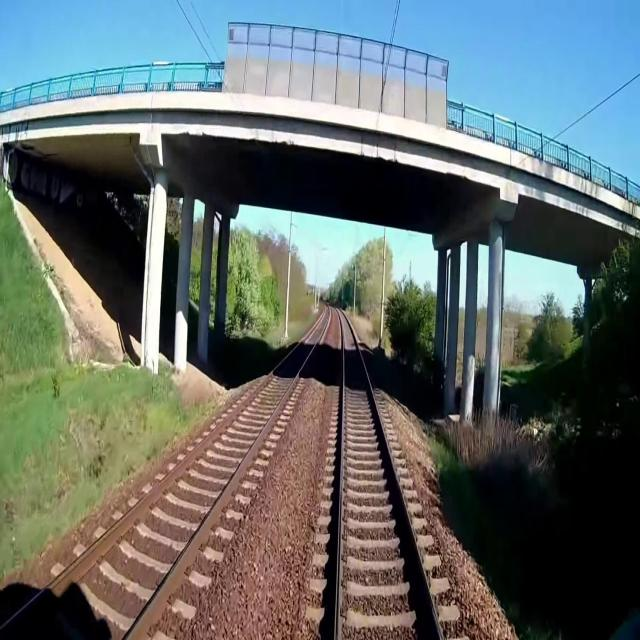rail-track: (0, 304, 328, 639), (338, 311, 438, 639)
